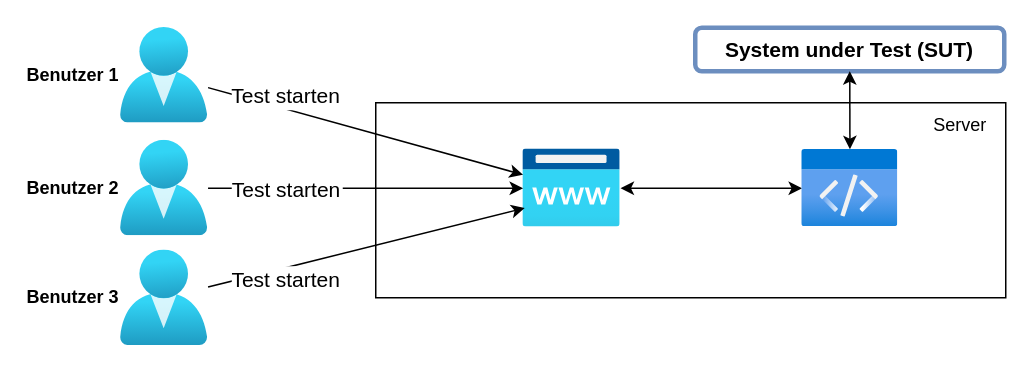
The diagram is 1032 pixels wide and 372 high, and some of its shapes have lost their labels. Here are the shapes that lost their labels. From the top down, the centre of each, then its label:
point 571,187: Web-Service
point 849,187: Load Testing Tool (Locust)
